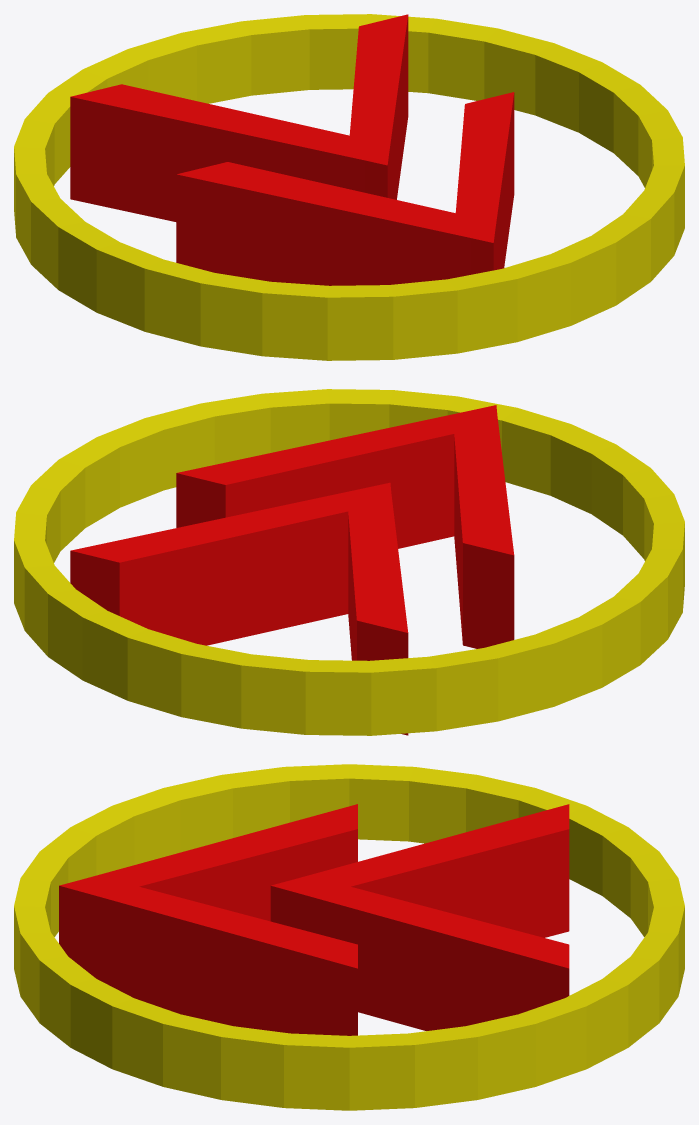
File: SpeedDownPowerUp.fbx
The picture shows the model from 3 angles, top to bottom: view 1: azimuth 30°, elevation 25°; view 2: azimuth 150°, elevation 25°; view 3: azimuth 270°, elevation 25°; orthographic projection.
Parts seen in each view (by area): view 1: Cylinder; view 2: Cylinder; view 3: Cylinder.
Part boxes in pixels (x1=…): Cylinder: x1=14, y1=14, x2=684, y2=360; Cylinder: x1=14, y1=389, x2=684, y2=735; Cylinder: x1=14, y1=764, x2=684, y2=1110.
Size of the model in its own units: 58.71 by 9.88 by 58.71.
